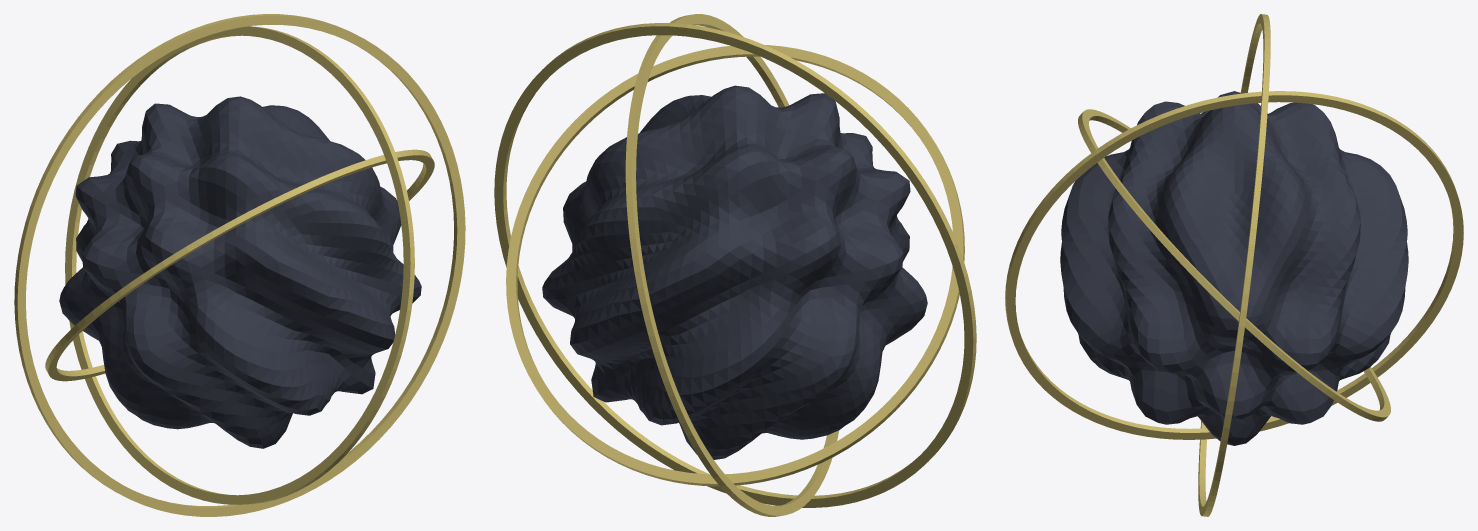
File: gpu-artifact.glb
The picture shows the model from 3 angles, left to right: view 1: azimuth 30°, elevation 25°; view 2: azimuth 150°, elevation 25°; view 3: azimuth 270°, elevation 25°; orthographic projection. The views are drawn at different scales.
Parts seen in each view (by area): view 1: zoth-relay_obsidian_core, zoth-relay_orbital_ring_2, zoth-relay_orbital_ring_1, zoth-relay_orbital_ring_0; view 2: zoth-relay_obsidian_core, zoth-relay_orbital_ring_2, zoth-relay_orbital_ring_0, zoth-relay_orbital_ring_1; view 3: zoth-relay_obsidian_core, zoth-relay_orbital_ring_1, zoth-relay_orbital_ring_2, zoth-relay_orbital_ring_0.
Part boxes in pixels (x1,y1,x2,y2): zoth-relay_obsidian_core: [59, 96, 421, 448]; zoth-relay_orbital_ring_2: [14, 14, 465, 516]; zoth-relay_orbital_ring_1: [65, 26, 414, 504]; zoth-relay_orbital_ring_0: [45, 149, 434, 381]; zoth-relay_obsidian_core: [542, 85, 927, 459]; zoth-relay_orbital_ring_2: [494, 23, 976, 507]; zoth-relay_orbital_ring_0: [506, 45, 964, 486]; zoth-relay_orbital_ring_1: [625, 14, 839, 516]; zoth-relay_obsidian_core: [1060, 91, 1408, 445]; zoth-relay_orbital_ring_1: [1005, 91, 1463, 439]; zoth-relay_orbital_ring_2: [1198, 14, 1270, 516]; zoth-relay_orbital_ring_0: [1078, 109, 1390, 421].
Bounding box in the file's own units: 3.24 × 3.22 × 2.94.
